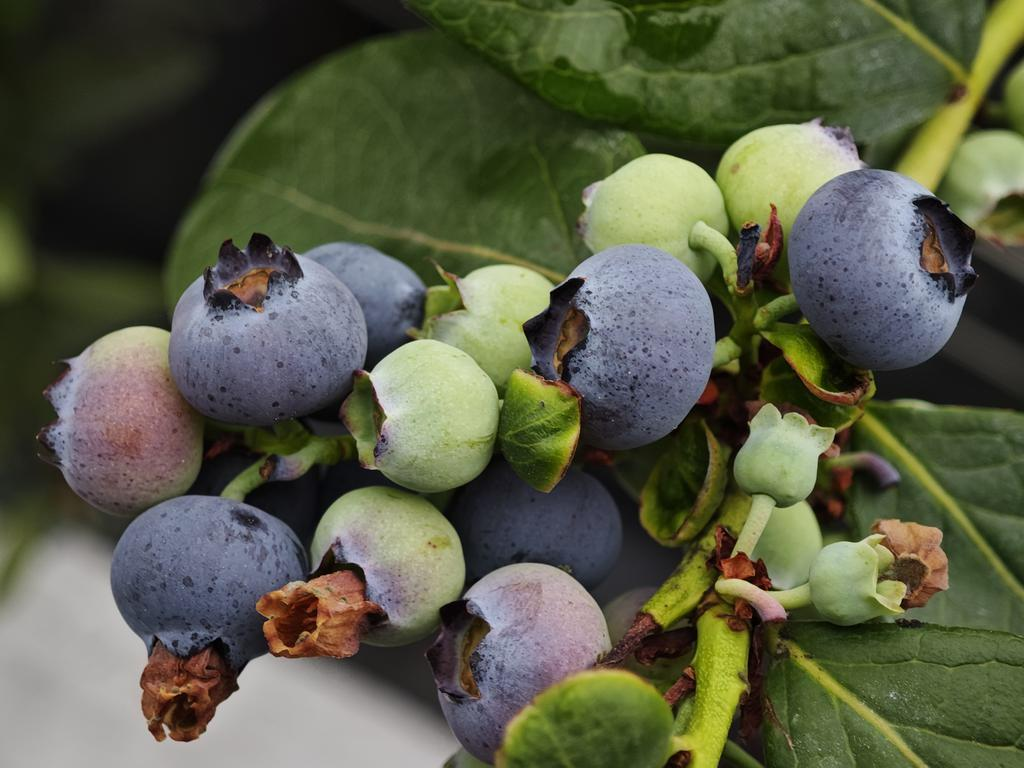RipeBlueBerry: (792, 166, 969, 374), (114, 497, 310, 680), (171, 242, 367, 424), (544, 249, 717, 454)
Semi-RipeBlueBerry: (440, 556, 609, 760), (50, 331, 193, 507)
